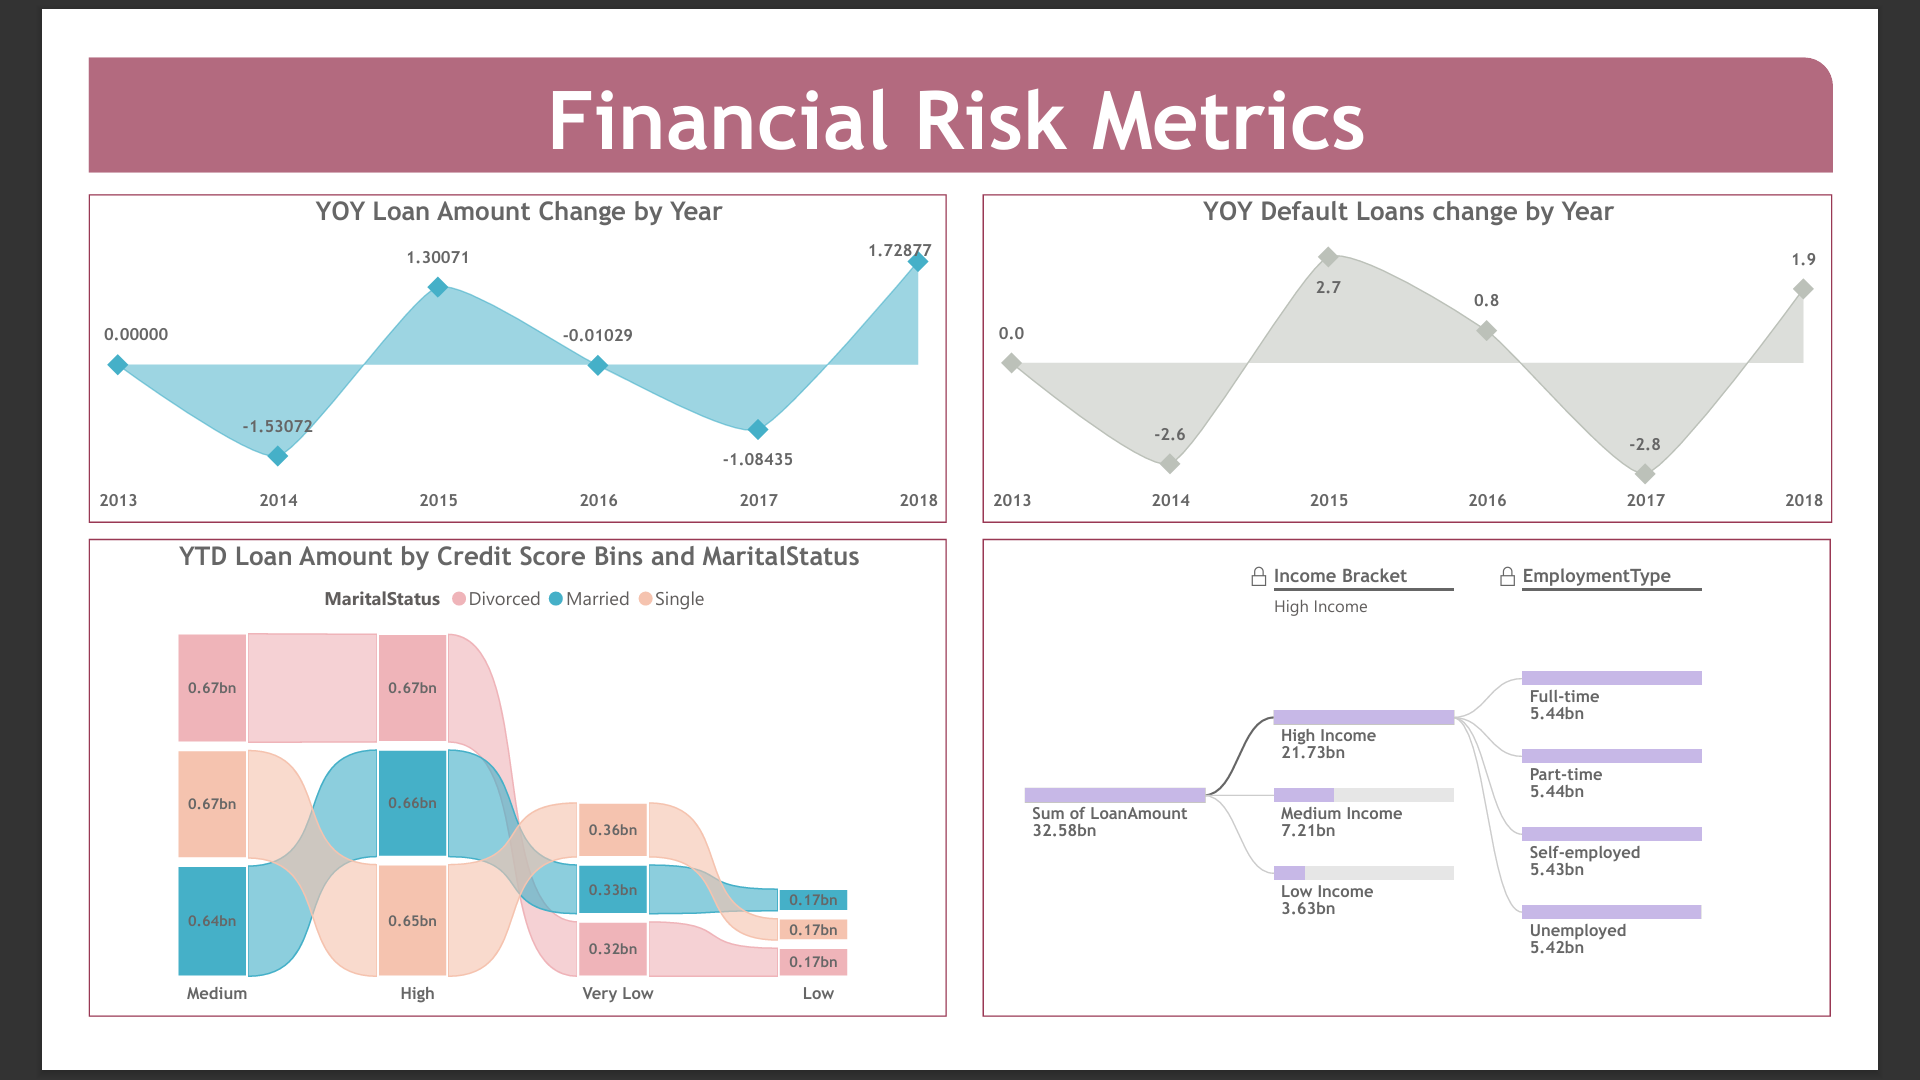

Layout of this report page (visuals, bound fields, positions):
{"tool":"powerbi","page":{"name":"Financial Risk Metrics","canvas":[1280,720],"ordinal":2},"visuals":[{"type":"shape","box":[8.6,0,1259.5,99],"z":0},{"type":"lineChart","fields":{"Category":["Loan_default.Year"],"Y":["Measure 3.YOY Loan Amount Change"]},"box":[8.6,107.6,629.8,234.8],"z":1},{"type":"lineChart","fields":{"Category":["Loan_default.Year"],"Y":["Measure 3.YOY Default Loans Change"]},"box":[650.5,107.6,617.5,234.8],"z":2},{"type":"ribbonChart","fields":{"Category":["Loan_default.Credit Score Bins"],"Series":["Loan_default.MaritalStatus"],"Y":["Measure 3.YTD Loan Amount"]},"box":[8.6,351,629.8,358.3],"z":3},{"type":"decompositionTreeVisual","fields":{"Analyze":["Sum(Loan_default.LoanAmount)"],"ExplainBy":["Loan_default.Income Bracket","Loan_default.EmploymentType"]},"box":[651,351,618,358],"z":4}]}

Visuals, with their boxes in screenshot pixels (x1, y1, x2, y2), scaled from the page's 1280x720 canvas onto the 1920x1080 screenshot:
shape: (13, 0, 1902, 148)
lineChart - Loan_default.Year x Measure 3.YOY Loan Amount Change: (13, 161, 958, 514)
lineChart - Loan_default.Year x Measure 3.YOY Default Loans Change: (976, 161, 1902, 514)
ribbonChart - Loan_default.Credit Score Bins x Loan_default.MaritalStatus: (13, 526, 958, 1064)
decompositionTreeVisual - Sum(Loan_default.LoanAmount) x Loan_default.Income Bracket: (976, 526, 1904, 1064)
